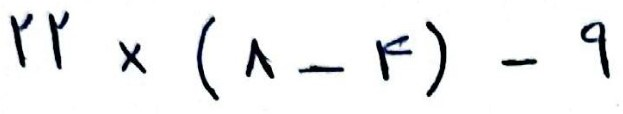character: (194, 15, 222, 102), (423, 21, 449, 98), (373, 35, 413, 82), (580, 21, 612, 79), (8, 12, 35, 69), (46, 9, 71, 70), (244, 37, 277, 81), (116, 39, 146, 76), (297, 65, 344, 76), (500, 57, 539, 68)
